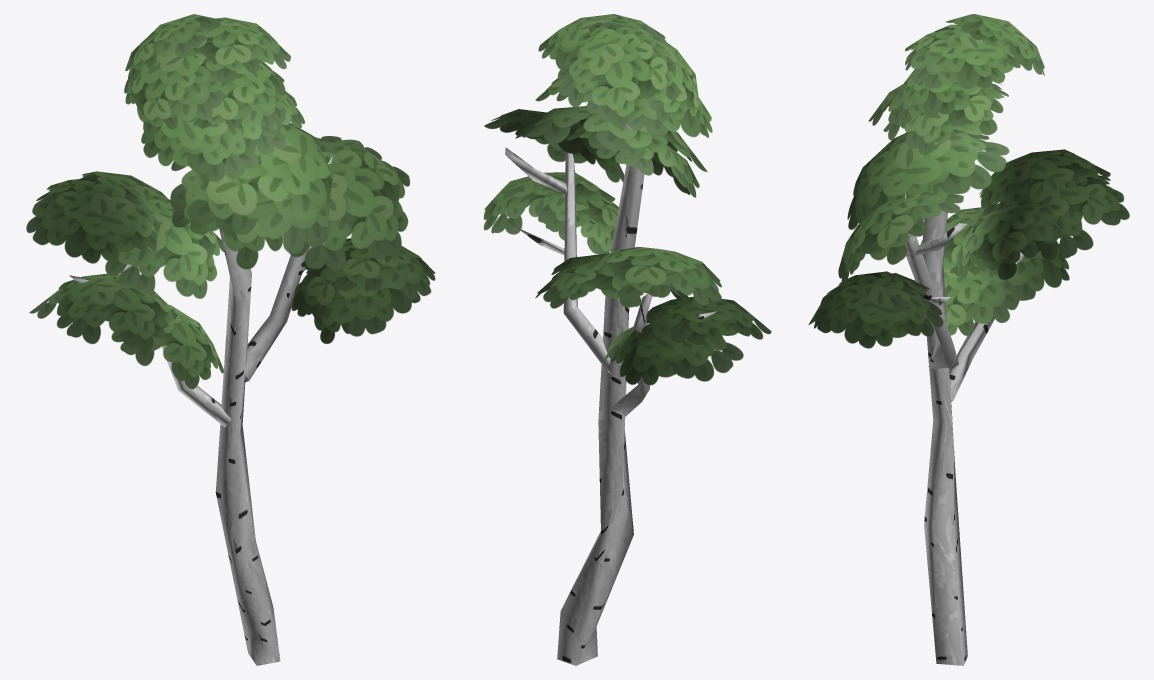
The model's file is street-tree-7-lo.glb.
3 renders of one model, left to right at view 1: azimuth 30°, elevation 25°; view 2: azimuth 150°, elevation 25°; view 3: azimuth 270°, elevation 25°, orthographic. The views are drawn at different scales.
Visible parts, largest first — view 1: Birch_7; view 2: Birch_7; view 3: Birch_7.
Boxes of the visible parts, box(x1,y1,x2,y2) form: Birch_7: box(26, 14, 435, 665); Birch_7: box(483, 14, 771, 665); Birch_7: box(808, 14, 1129, 665).
Bounding box in the file's own units: 5.36 × 9.99 × 4.94.
Materials: 2 (2 with a texture image).
